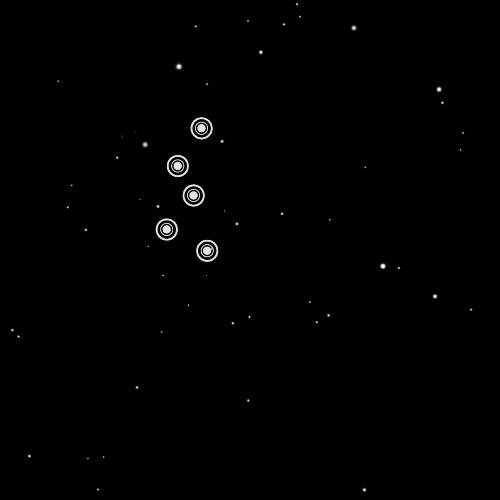cassiopeia: (150, 110, 227, 271)
